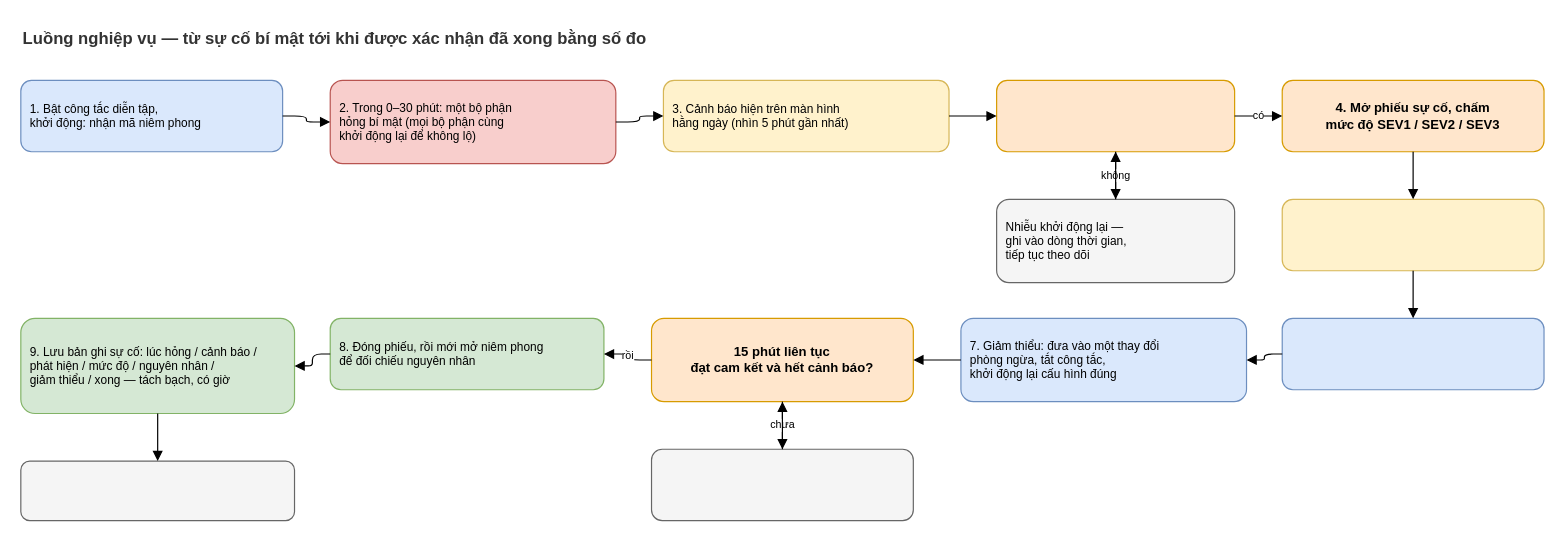
The diagram is 1565 pixels wide and 541 high, and some of its shapes have lost their labels. Each missing label, with the centre of its shape:
5. Báo tình hình trên phiếu: tại mỗi mốc + mỗi 30 phút: (x=1412, y=234)
6. Tìm nguyên nhân từ số liệu và nhật ký: (x=1412, y=353)
Chưa xong — "trông có vẻ ổn" không đủ; tiếp tục theo dõi: (x=781, y=484)
Cảnh báo còn qua ≥ 2 lần kiểm tra?: (x=1115, y=115)
→ Rút kinh nghiệm không đổ lỗi (bước sau, SCRUM-37): (x=157, y=490)
